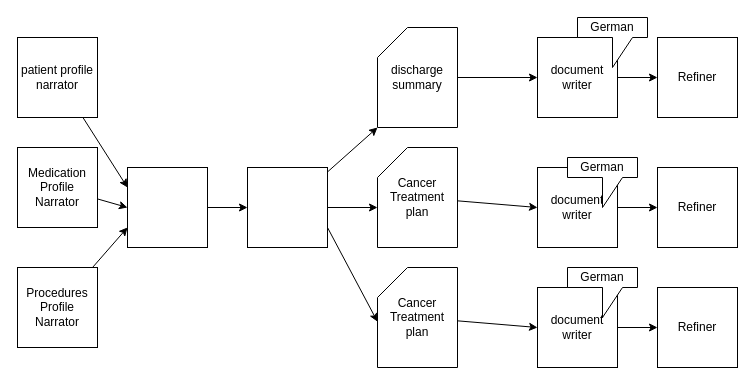
The diagram is 755 pixels wide and 385 high, and some of its shapes have lost their labels. Here are the shapes that lost their labels. From the top down, the box of each, then its label:
(126, 166, 208, 248): encounter narrator
(246, 166, 328, 248): Document Predictor
